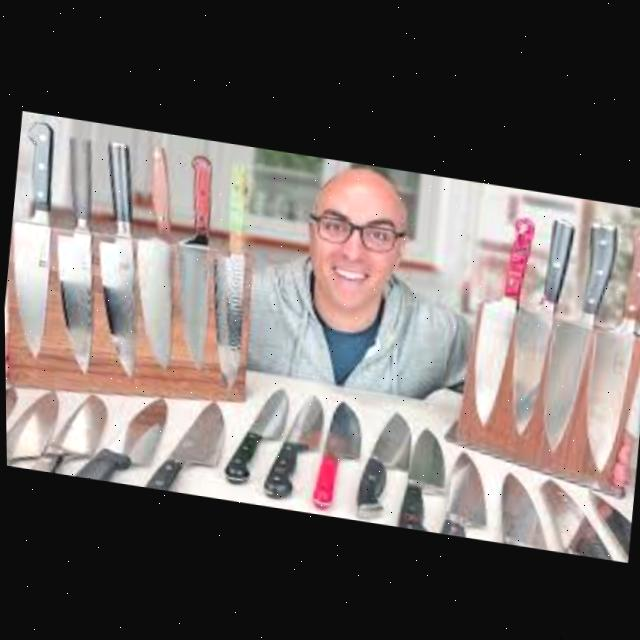knife: (534, 207, 623, 465), (454, 202, 542, 448), (84, 137, 160, 378), (46, 131, 112, 373), (1, 117, 66, 361), (510, 206, 578, 436), (590, 207, 640, 492), (130, 142, 191, 370), (167, 149, 226, 368), (209, 156, 260, 390), (71, 383, 170, 488), (141, 390, 229, 497), (4, 383, 93, 478), (261, 384, 326, 501), (223, 379, 291, 487), (533, 470, 620, 554), (354, 401, 415, 520), (309, 393, 366, 510), (396, 420, 450, 530), (48, 390, 110, 480), (437, 445, 494, 536), (4, 383, 60, 472), (495, 464, 554, 545), (583, 484, 633, 556), (4, 380, 18, 458)
